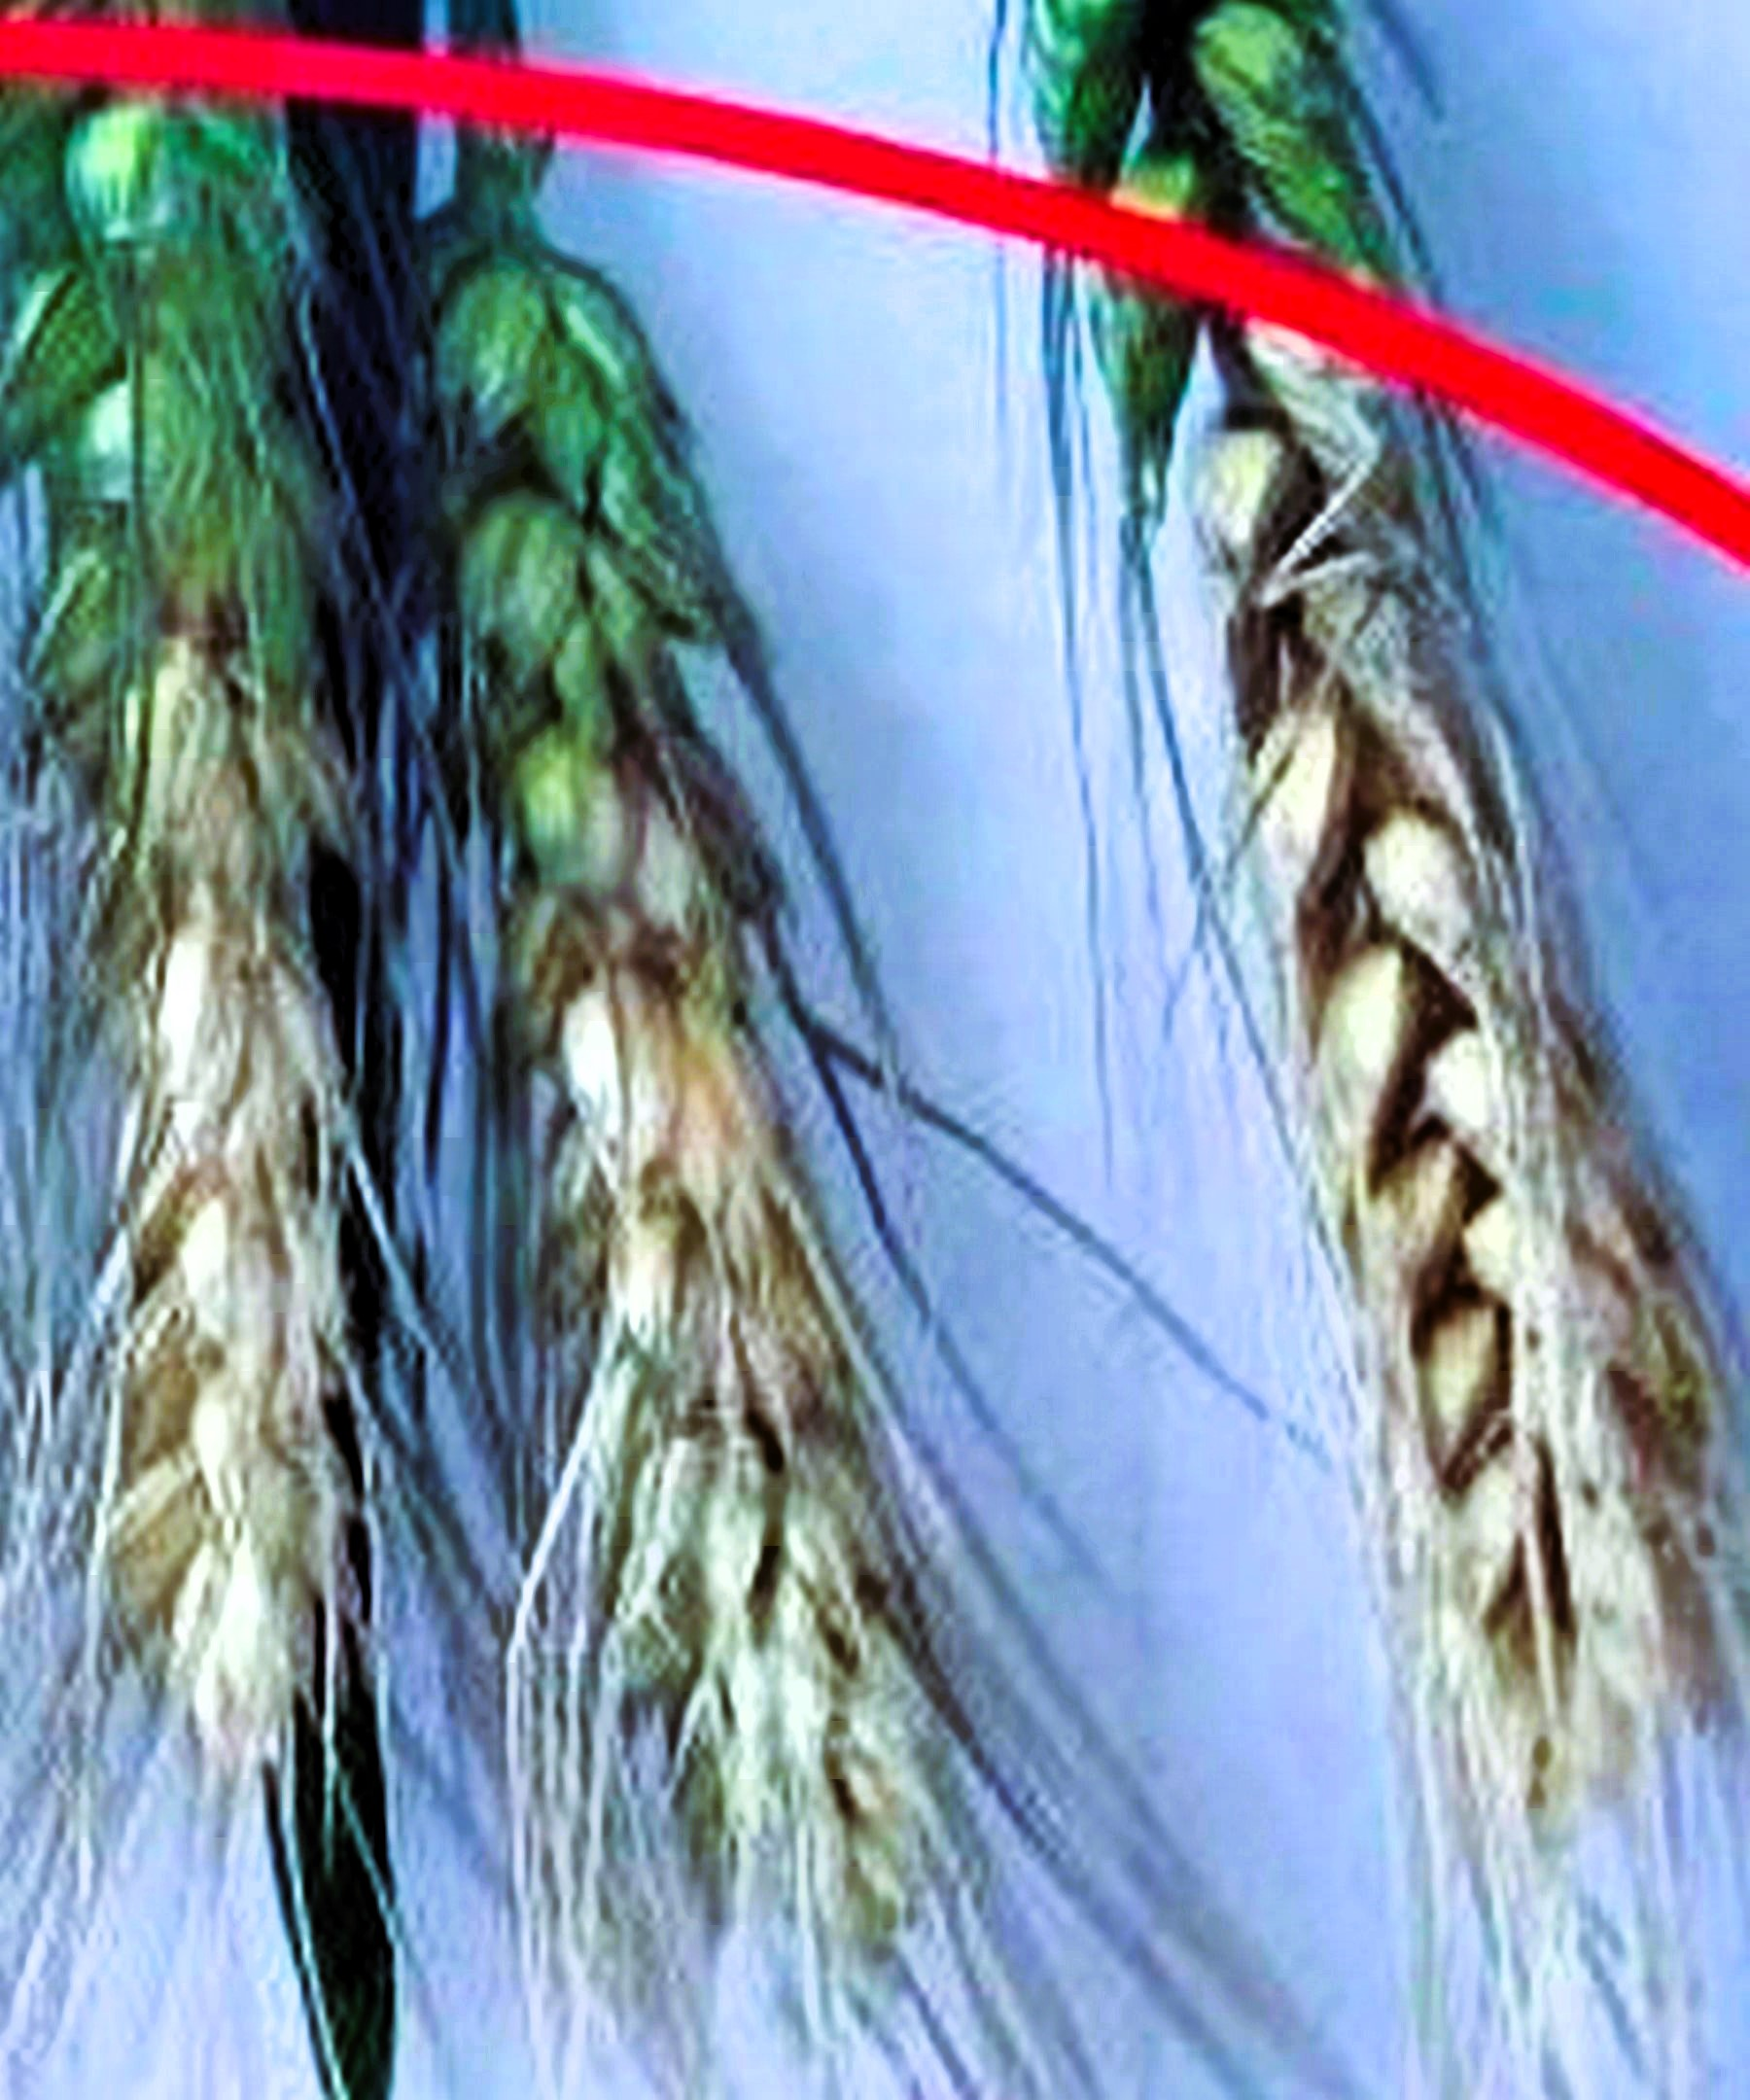Wheat scab: (354, 195, 1047, 1887)
